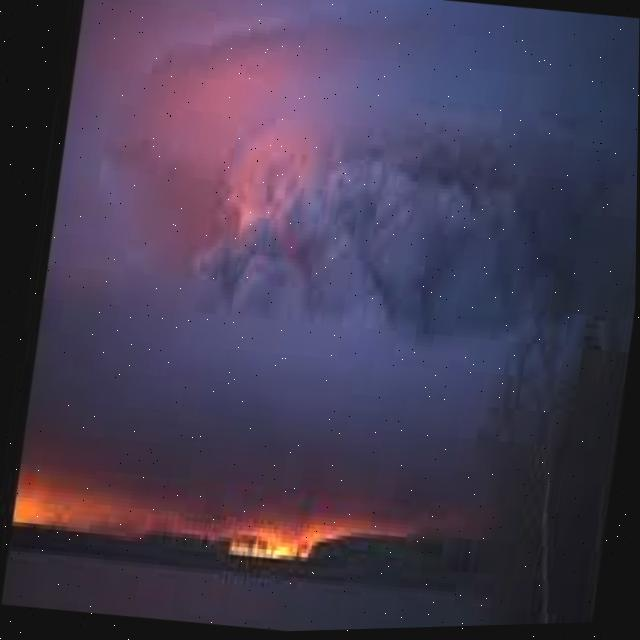smoke: (38, 0, 640, 522)
